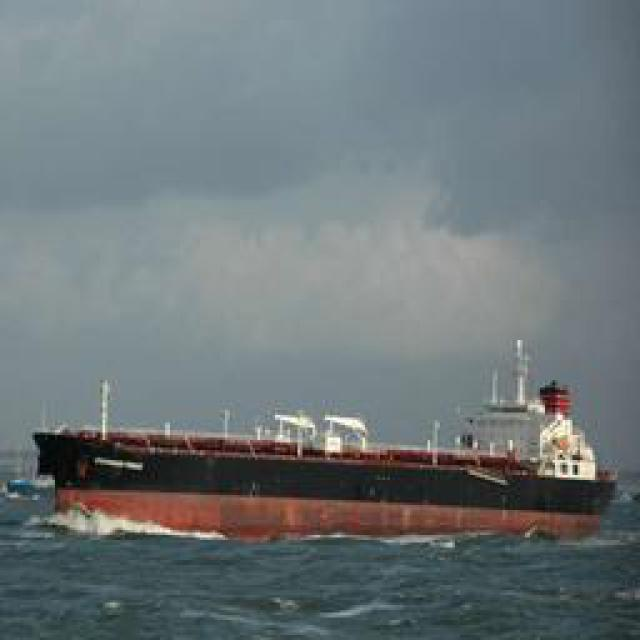Ship: (21, 371, 626, 549)
